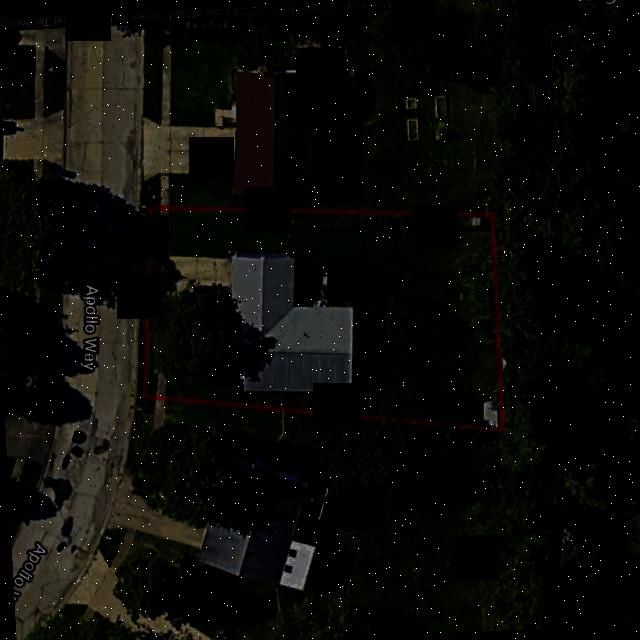Driveway: (150, 252, 233, 301)
Extra Driveway: (137, 240, 147, 304)
Extra Lawn: (136, 302, 146, 399), (148, 301, 158, 395), (138, 208, 146, 249), (152, 210, 159, 253)
House: (231, 253, 353, 393)
Other: (294, 259, 335, 305), (483, 401, 498, 427), (471, 216, 481, 227)
Sidewalk: (156, 299, 170, 397), (159, 211, 170, 253)
